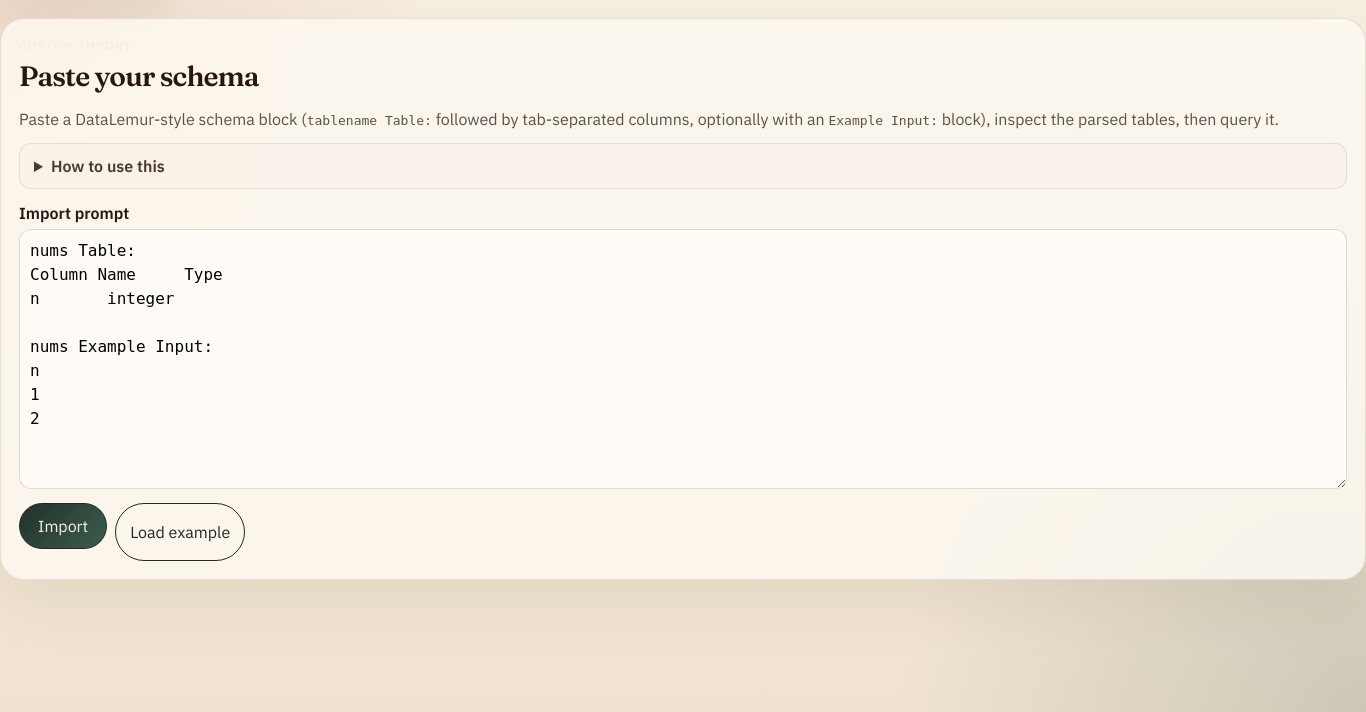
Test case: SqlPlaygroundApp › shows mock sample rows as read-only reference data
Click the button "Import" at (63, 526), box [19,502,107,548]
(page scrolled)
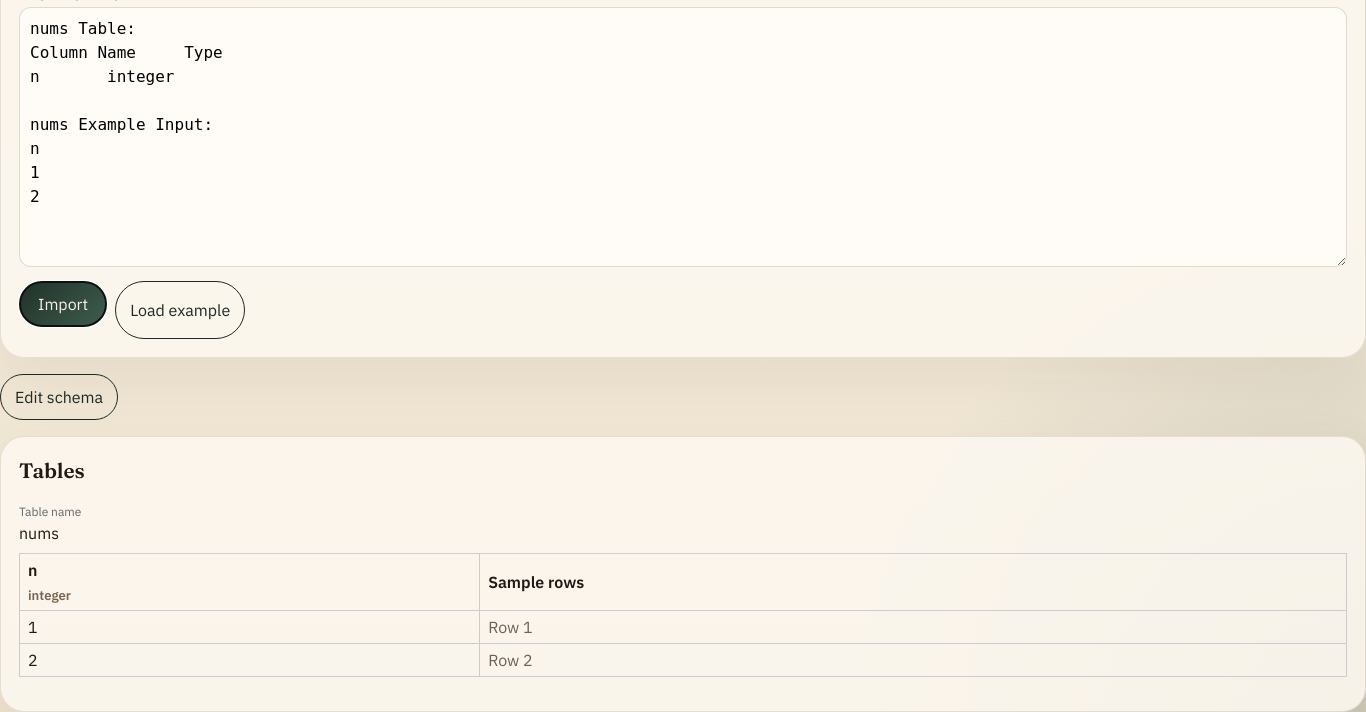
Now the heading "Tables" is shown, box [19,458,85,482]
Now the text "1" is shown, box [28,617,38,637]
Now the text "2" is shown, box [28,650,38,670]
